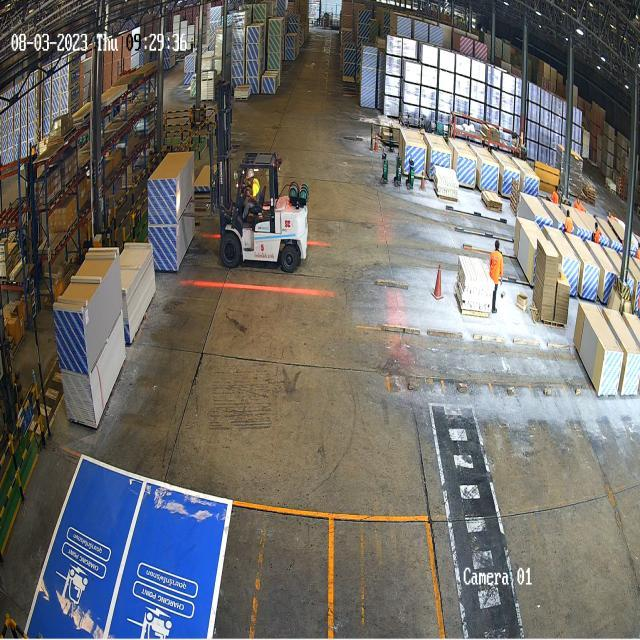driver: (241, 168, 264, 227)
forklift: (216, 144, 315, 278)
person: (490, 239, 505, 316), (593, 222, 602, 244), (565, 210, 573, 233), (576, 197, 586, 212), (552, 185, 559, 203)
